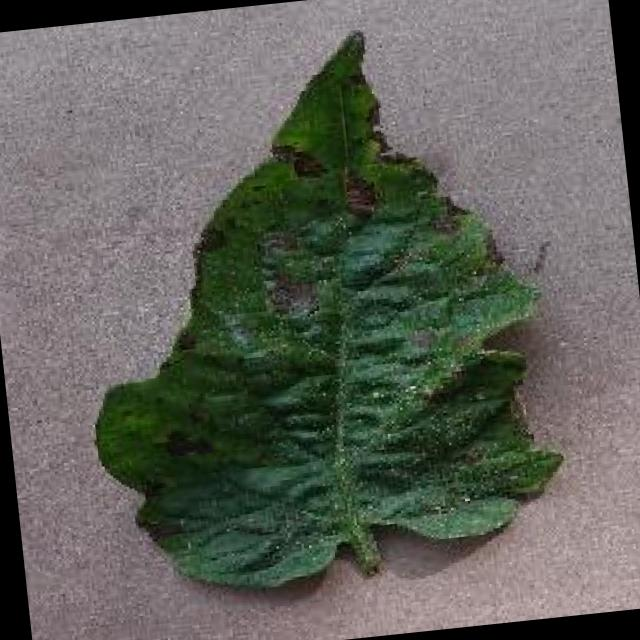Tomato_Early_Blight: (65, 29, 546, 566)
